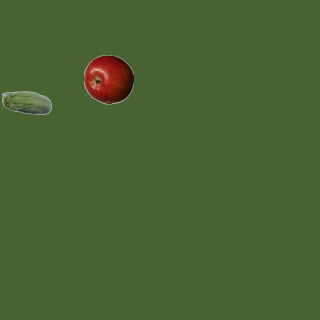Apple Braeburn: (83, 54, 133, 104)
Corn Husk: (1, 79, 51, 129)
